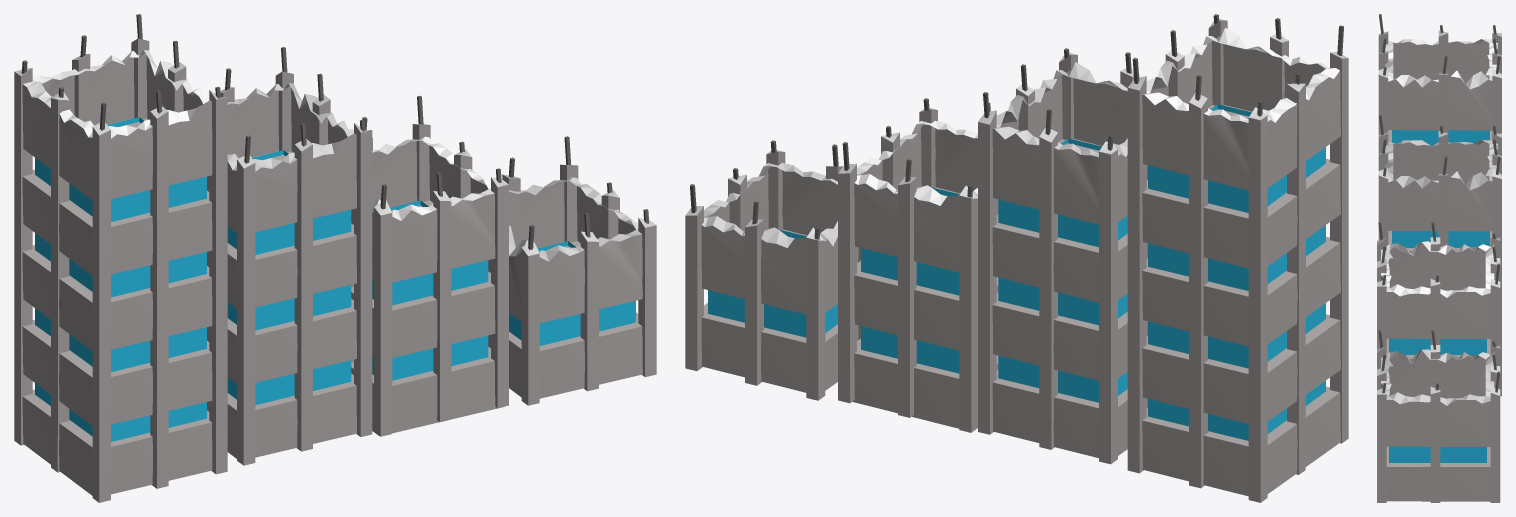
The model's file is Edificios.fbx.
3 views of the same model, side by side, from view 1: azimuth 30°, elevation 25°; view 2: azimuth 150°, elevation 25°; view 3: azimuth 270°, elevation 25° (orthographic). The views are drawn at different scales.
Visible parts, largest first — view 1: Box002, Box004, Box001, Box003; view 2: Box002, Box004, Box001, Box003; view 3: Box003, Box001, Box004, Box002.
Boxes of the visible parts, x1,y1,x2,y2 form: Box002: (14, 14, 227, 502); Box004: (207, 47, 372, 465); Box001: (351, 96, 508, 436); Box003: (488, 136, 656, 405); Box002: (1127, 14, 1348, 502); Box004: (978, 48, 1147, 464); Box001: (838, 98, 998, 432); Box003: (685, 140, 860, 400); Box003: (1377, 330, 1500, 502); Box001: (1377, 222, 1500, 360); Box004: (1378, 115, 1501, 396); Box002: (1378, 14, 1501, 145).
Bounding box in the file's own units: 3793 × 1015 × 2632.
1 material, 1 textured.
